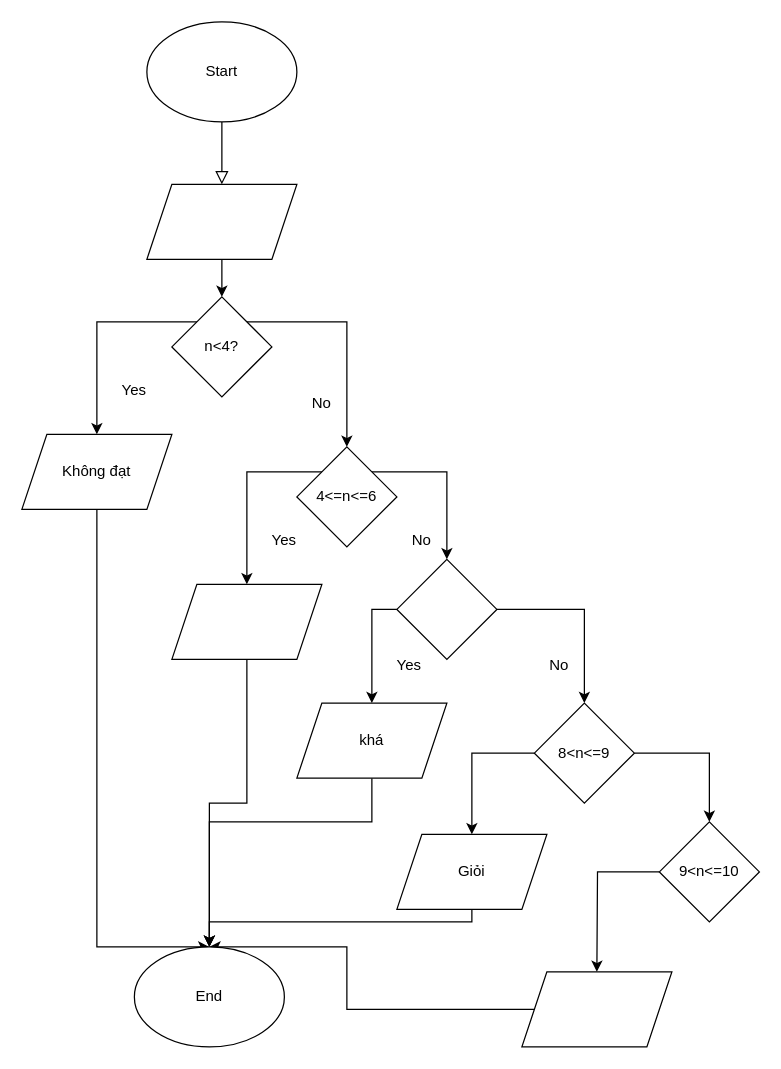
The diagram is 781 pixels wide and 1069 high, and some of its shapes have lost their labels. Here are the shapes that lost their labels. From the top down, the box of each, then its label:
(146, 183, 297, 259): Nhập n
(171, 583, 322, 659): Trung bình
(396, 558, 497, 659): 6<n<=8
(521, 971, 672, 1047): Xuất sắc
